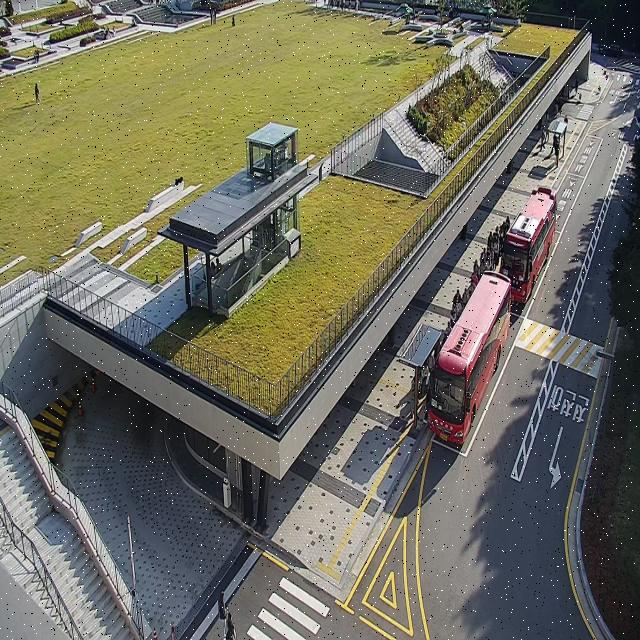queue: (416, 215, 510, 426)
